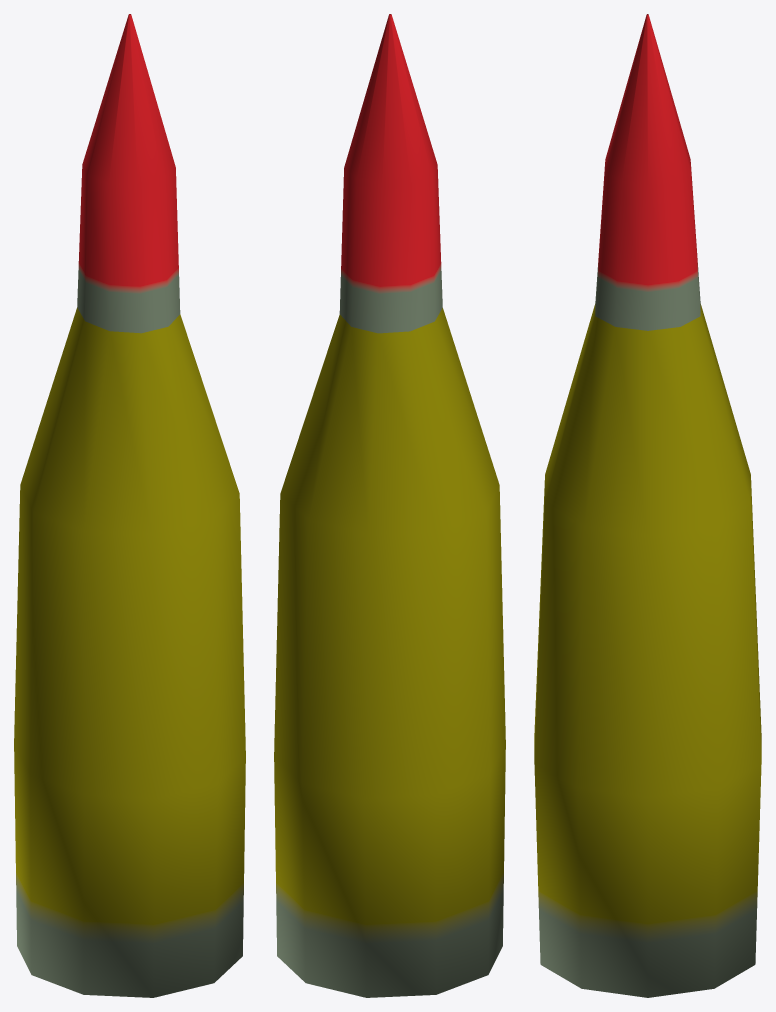
File: bullet-copy.obj
The picture shows the model from 3 angles, left to right: view 1: azimuth 30°, elevation 25°; view 2: azimuth 150°, elevation 25°; view 3: azimuth 270°, elevation 25°; orthographic projection.
Visible parts, largest first — view 1: qqw; view 2: qqw; view 3: qqw.
Boxes of the visible parts, x1,y1,x2,y2 form: qqw: [14, 14, 245, 997]; qqw: [274, 14, 505, 997]; qqw: [534, 14, 761, 997].
Size of the model in its own units: 7.86 by 36.18 by 7.75.
1 material, 1 textured.
